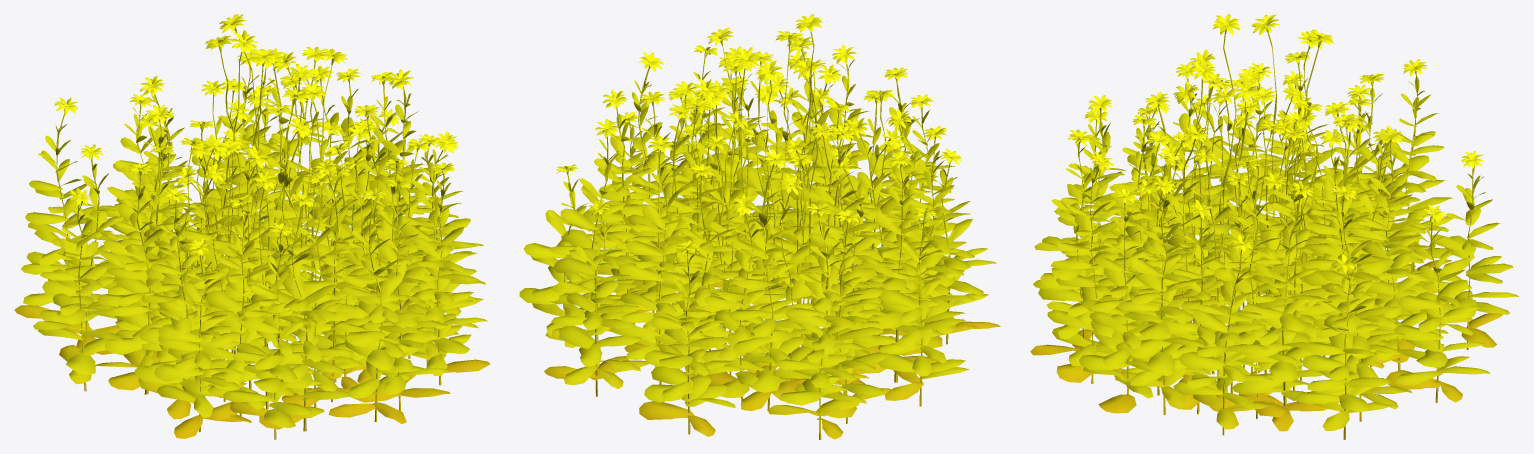
Rendered from flower_1.fbx.
The picture shows the model from 3 angles, left to right: view 1: azimuth 30°, elevation 25°; view 2: azimuth 150°, elevation 25°; view 3: azimuth 270°, elevation 25°; orthographic projection.
Parts seen in each view (by area): view 1: flower; view 2: flower; view 3: flower.
Part boxes in pixels (left/top/right/bottom): flower: left=14, top=14, right=489, bottom=439; flower: left=519, top=14, right=1000, bottom=439; flower: left=1030, top=14, right=1518, bottom=439.
Size of the model in its own units: 558 by 432 by 576.
